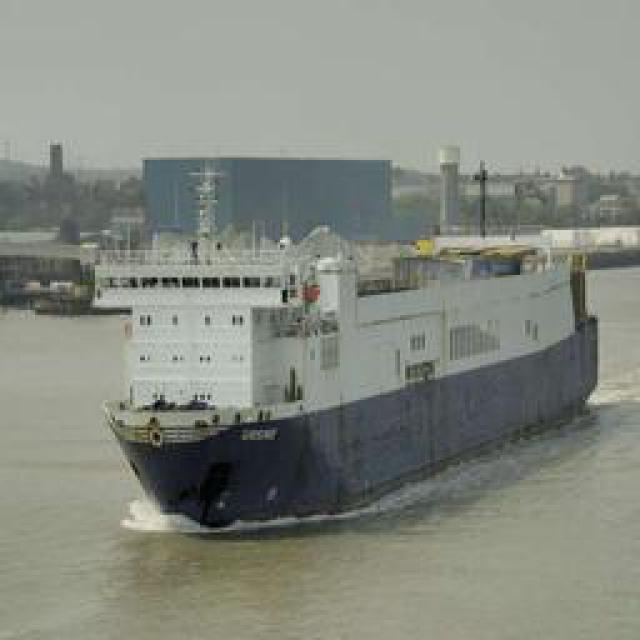Ship: (108, 202, 603, 545)
